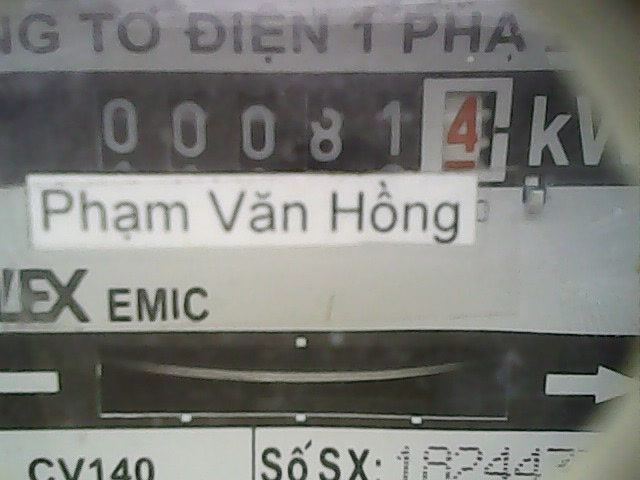phy_plate: (87, 72, 510, 183)
